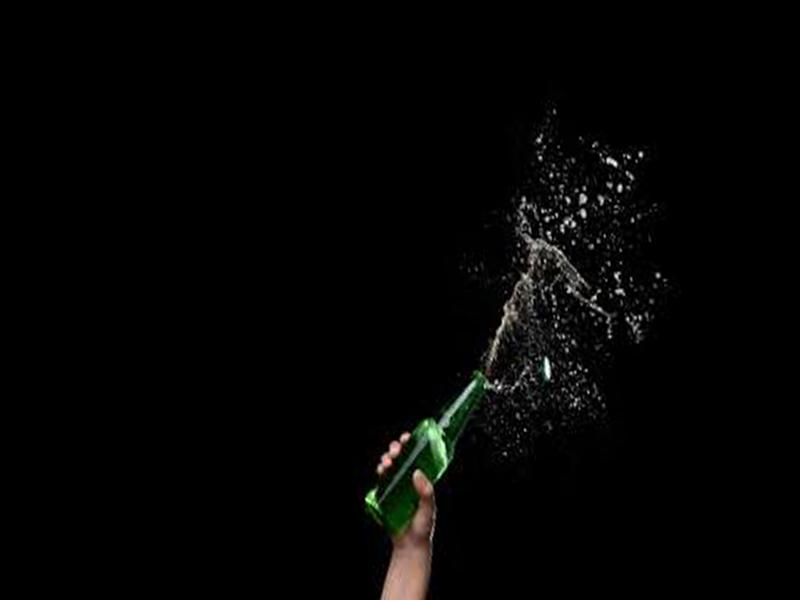Beer: (343, 371, 511, 544)
